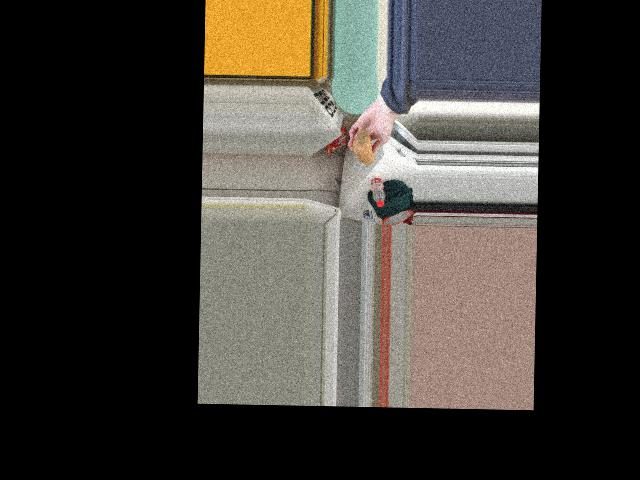sweet_potato: (354, 125, 372, 165)
